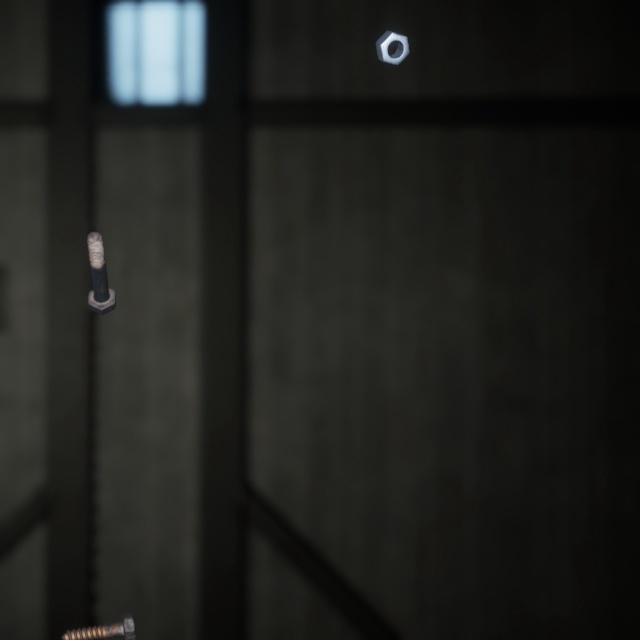bolt: (82, 210, 120, 303), (57, 586, 140, 624)
nut: (371, 17, 414, 61)
